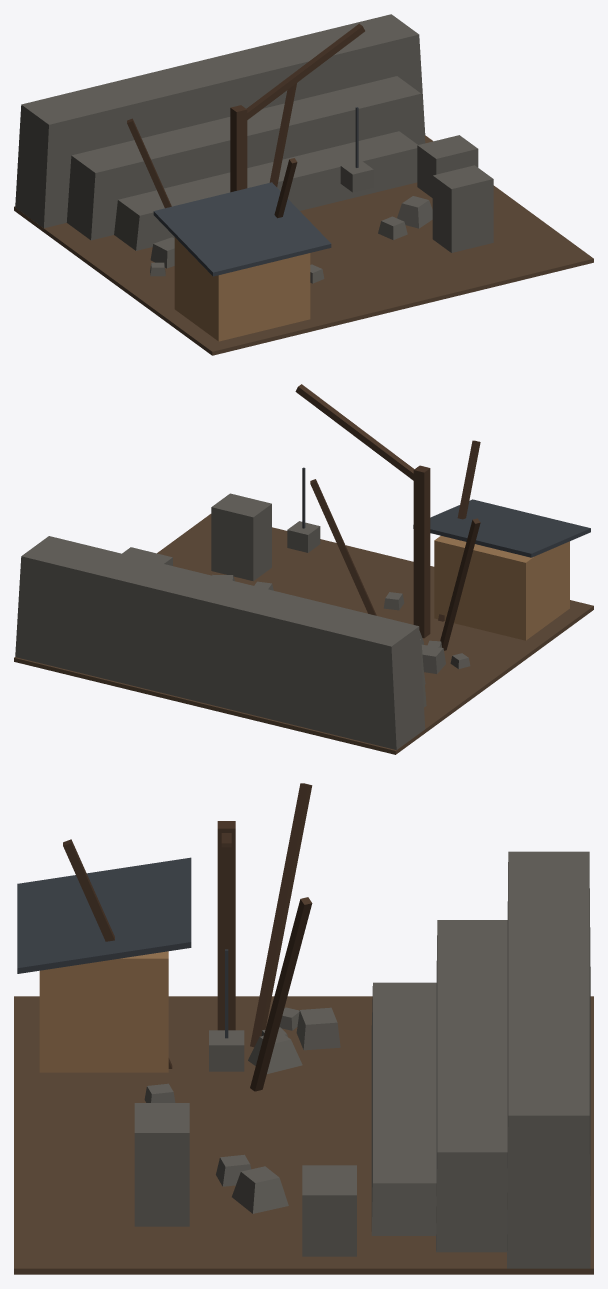
Rendered from quarry.glb.
The picture shows the model from 3 angles, top to bottom: view 1: azimuth 30°, elevation 25°; view 2: azimuth 150°, elevation 25°; view 3: azimuth 270°, elevation 25°; orthographic projection. The views are drawn at different scales.
Visible parts, largest first — view 1: quarry_lod0; view 2: quarry_lod0; view 3: quarry_lod0.
Boxes of the visible parts, <box> form: quarry_lod0: <box>14,14,593,355</box>; quarry_lod0: <box>14,384,593,754</box>; quarry_lod0: <box>14,783,593,1274</box>.
Size of what is drawn, in the model's own units: 10 by 5.6 by 9.
